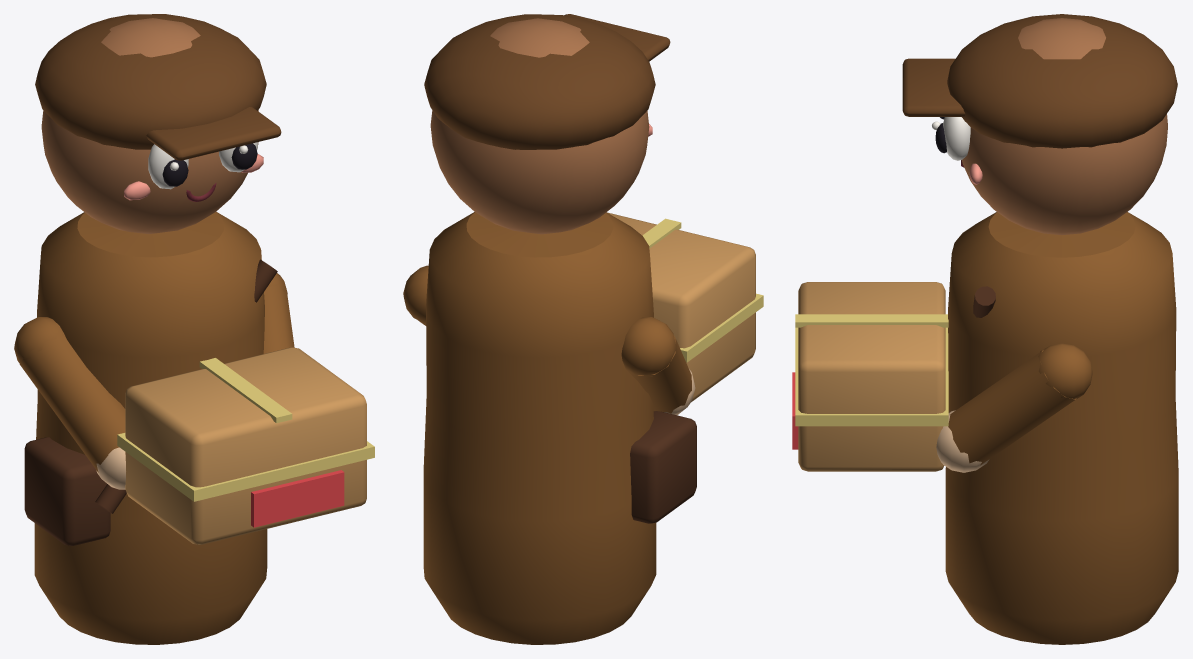
File: Char_Courier.fbx
The picture shows the model from 3 angles, left to right: view 1: azimuth 30°, elevation 25°; view 2: azimuth 150°, elevation 25°; view 3: azimuth 270°, elevation 25°; orthographic projection.
Parts seen in each view (by area): view 1: Body, Head; view 2: Body, Head; view 3: Body, Head.
Part boxes in pixels (x1,y1,x2,y2): Body: [14, 211, 374, 644]; Head: [35, 14, 281, 234]; Body: [403, 212, 763, 644]; Head: [424, 14, 670, 234]; Body: [792, 212, 1178, 644]; Head: [902, 14, 1177, 235].
Size of the model in its own units: 1 by 2.07 by 1.26.
